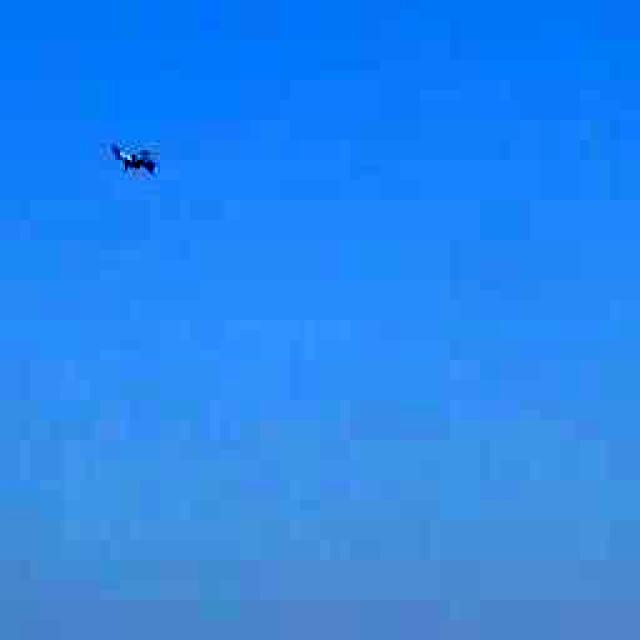bird: (92, 125, 180, 188)
